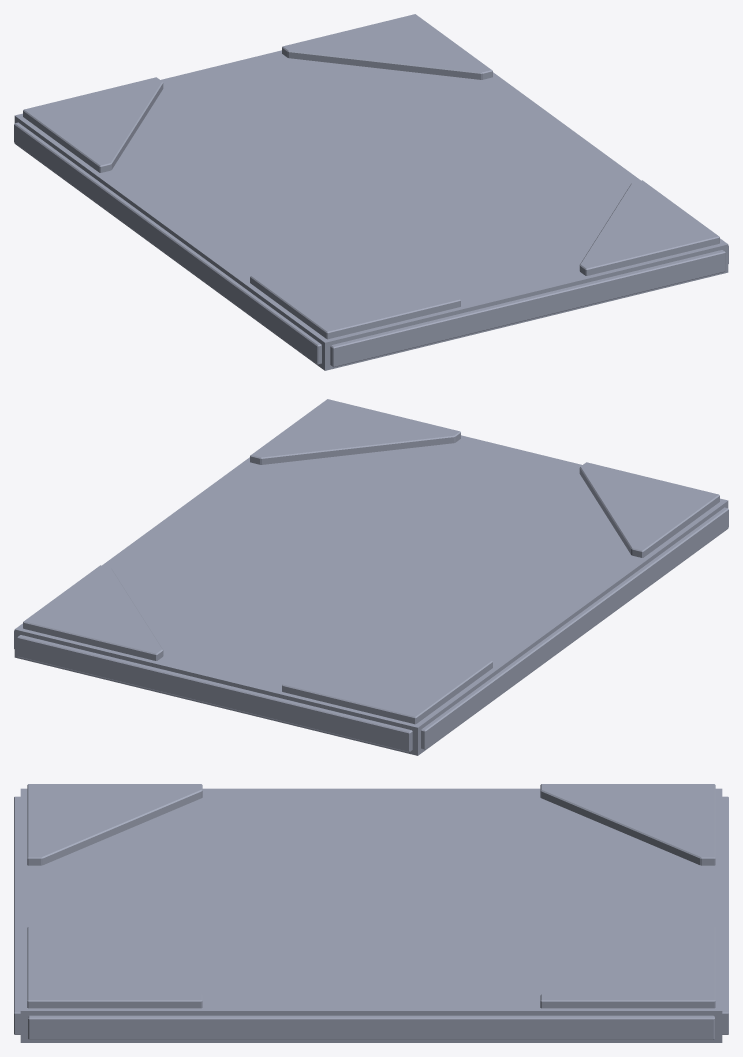
Rendered from platform.fbx.
3 renders of one model, top to bottom at view 1: azimuth 30°, elevation 25°; view 2: azimuth 150°, elevation 25°; view 3: azimuth 270°, elevation 25°, orthographic. The views are drawn at different scales.
Parts seen in each view (by area): view 1: Cube; view 2: Cube; view 3: Cube.
Part boxes in pixels (left/top/right/bottom): Cube: left=14, top=14, right=728, bottom=370; Cube: left=14, top=399, right=728, bottom=755; Cube: left=14, top=784, right=728, bottom=1042.
Size of the model in its own units: 3.06 by 0.25 by 4.08.
